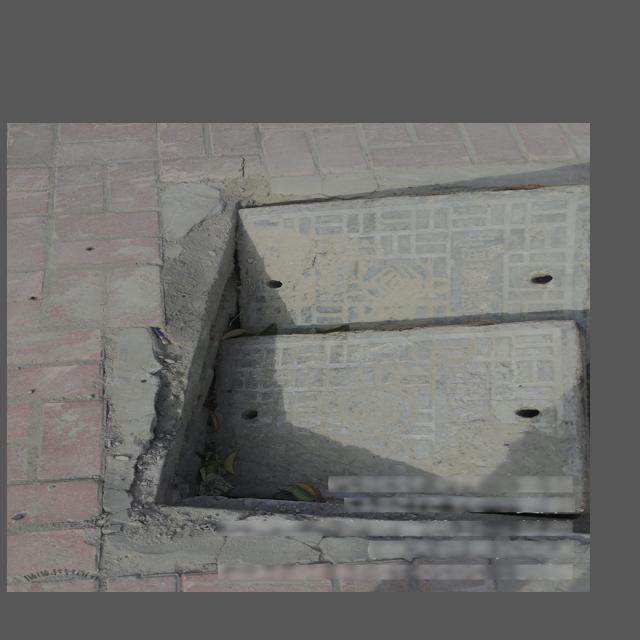uncovered: (133, 172, 584, 553)
